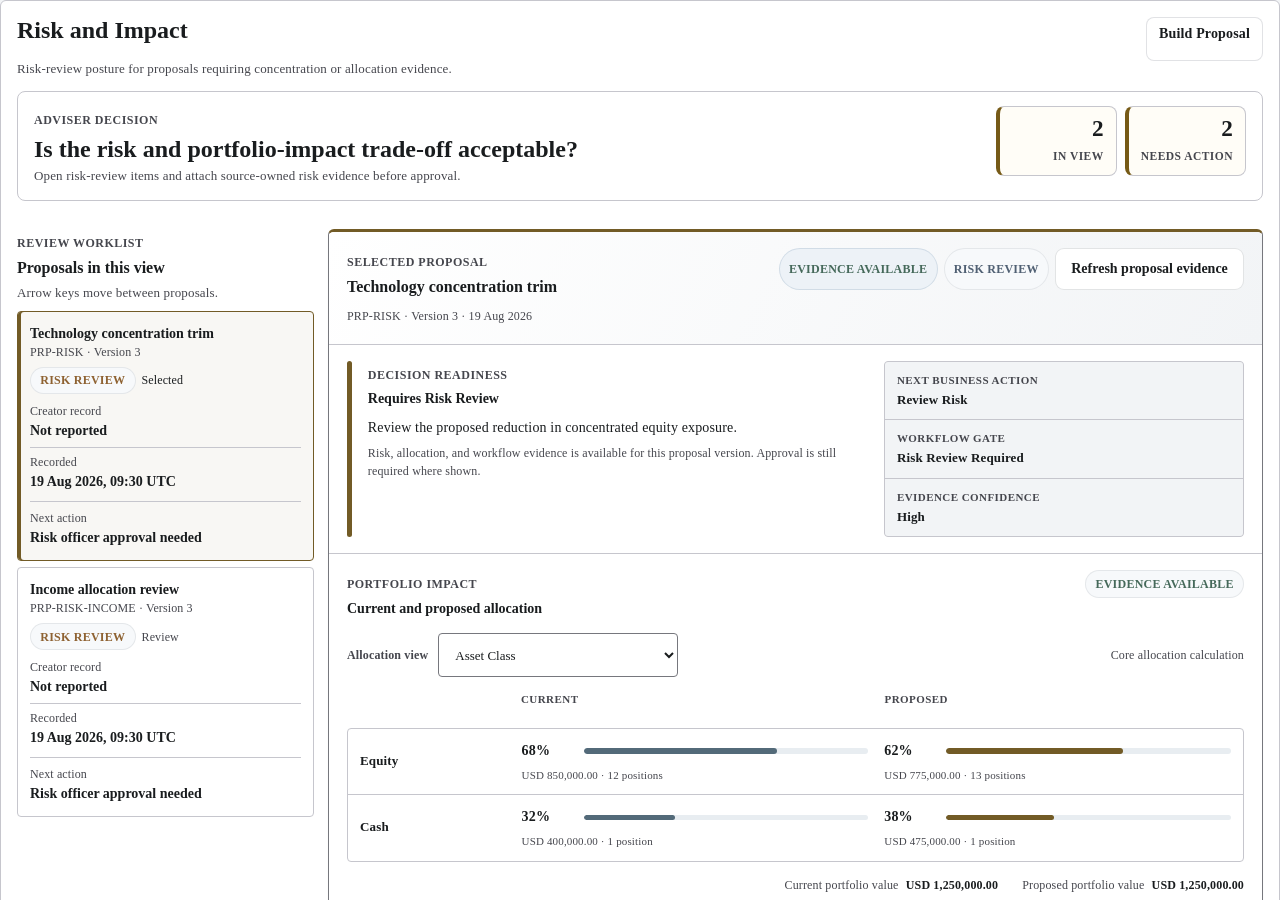
Test: ProposalLifecycleWorkspace › does not let a late refresh for a prior proposal clear the current confirmation
Click the button "Refresh proposal evidence".
click(1150, 269)  # box [1055, 248, 1244, 290]
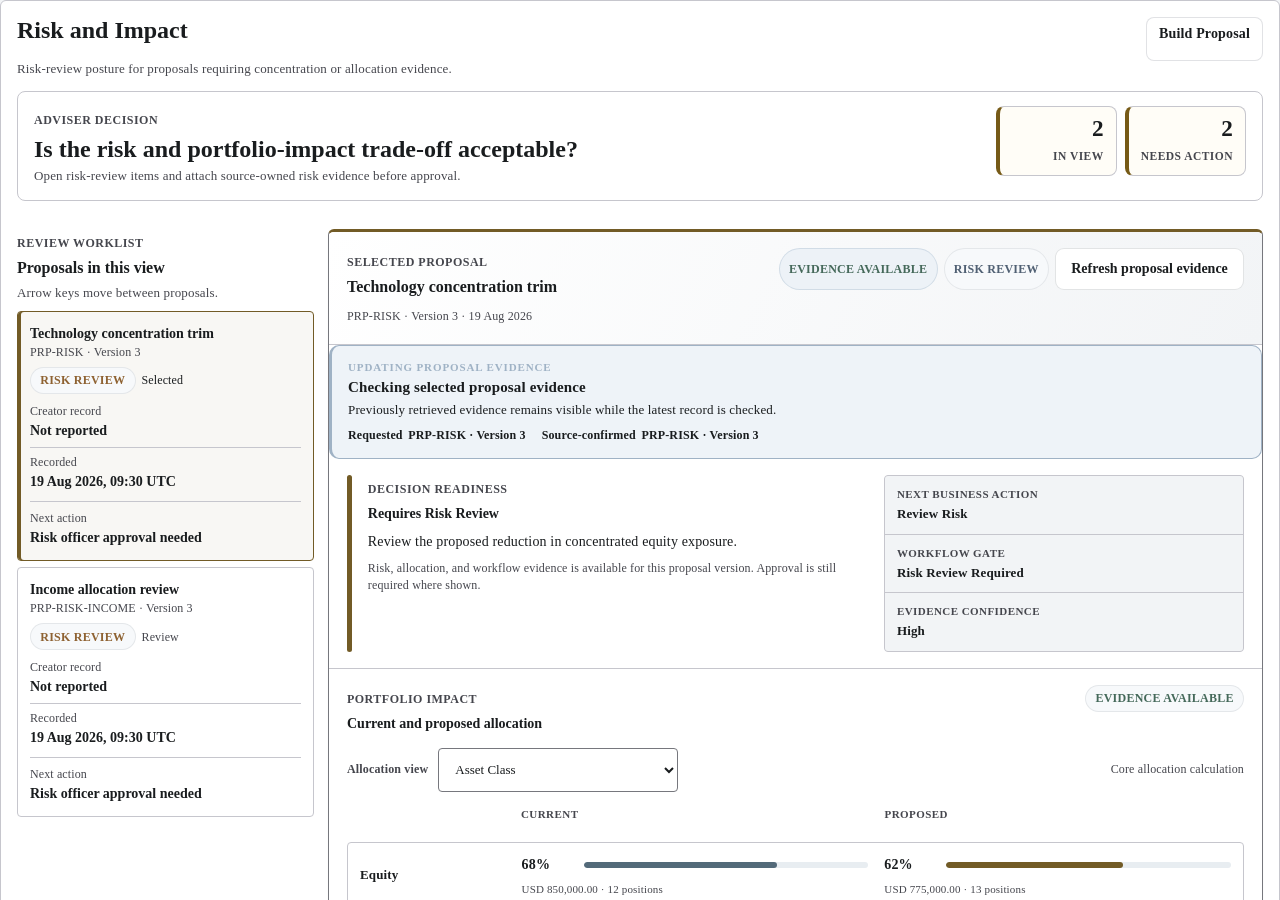
Click the option "Income allocation review".
click(166, 692)  # box [17, 567, 314, 817]
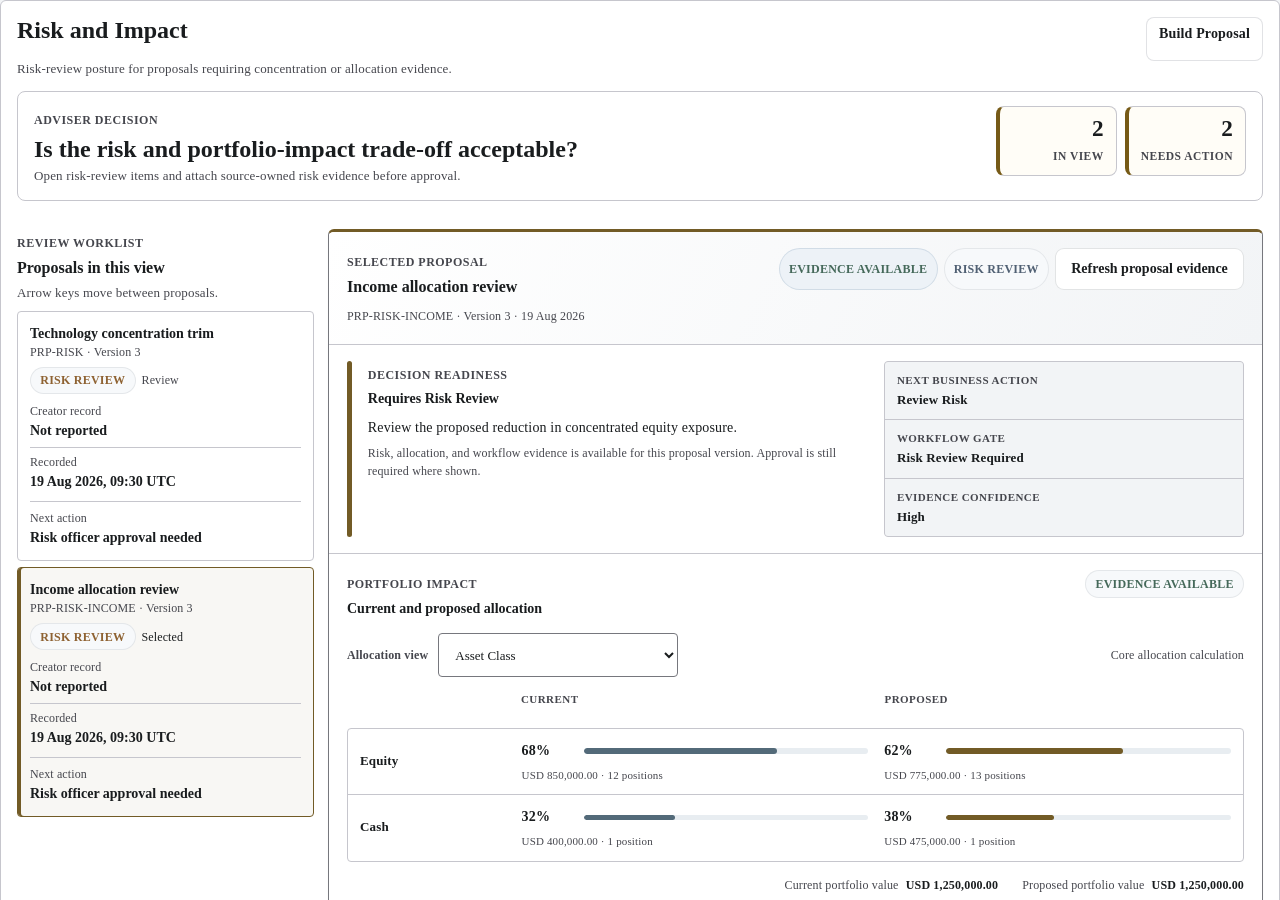
Check: the heading "Income allocation review" is shown, box [347, 278, 517, 295]
Click the button "Refresh proposal evidence".
click(1150, 269)  # box [1055, 248, 1244, 290]
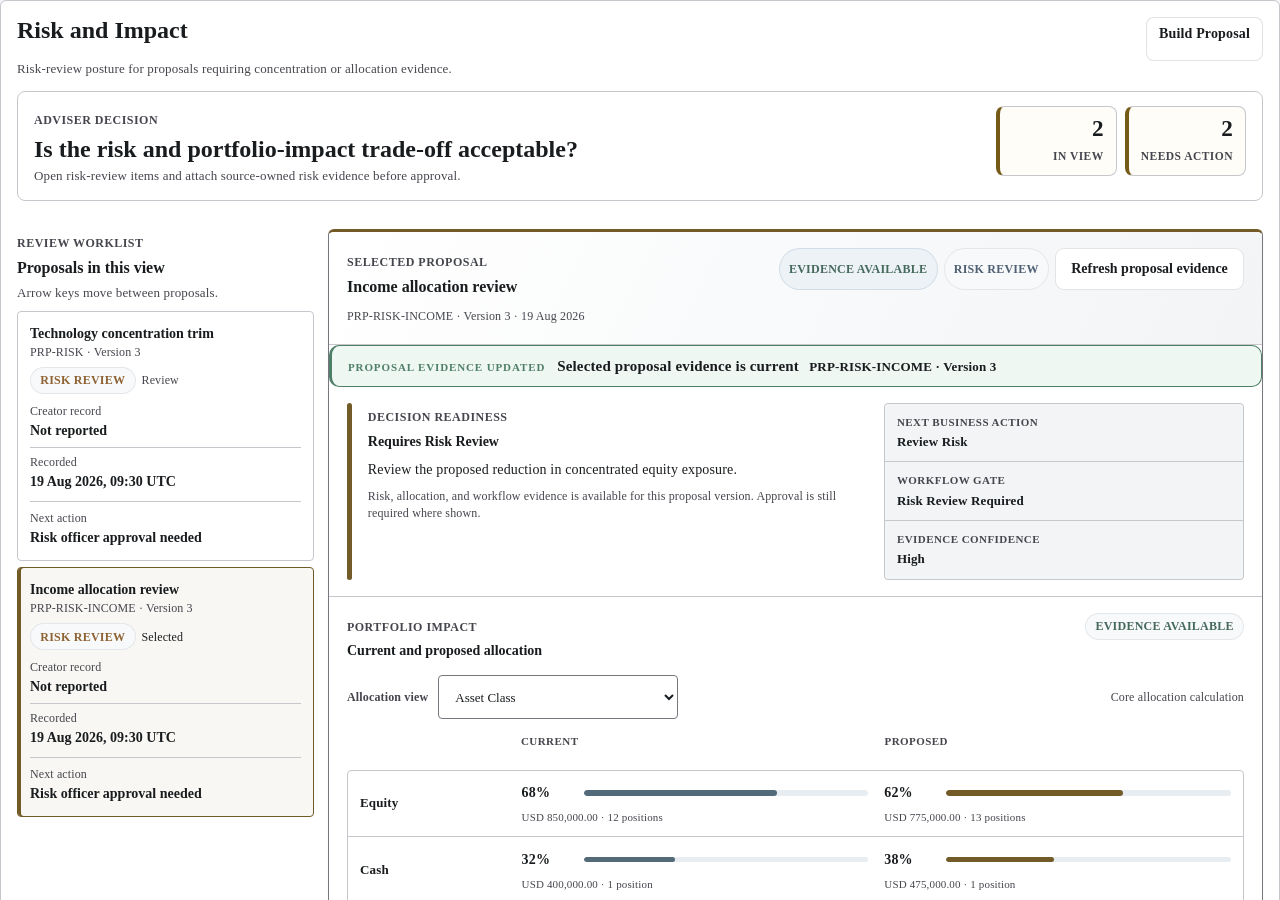
Check: the message with test id "workbench-refresh-status" shows "PRP-RISK-INCOME · Version 3", box [809, 358, 996, 374]
